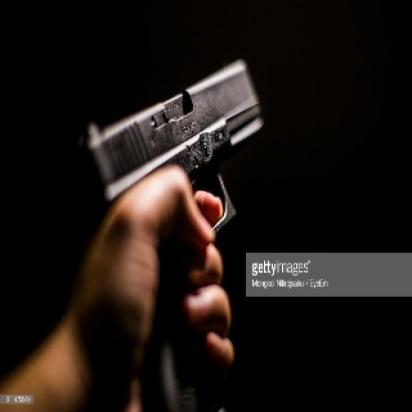Gun: (79, 43, 265, 410)
